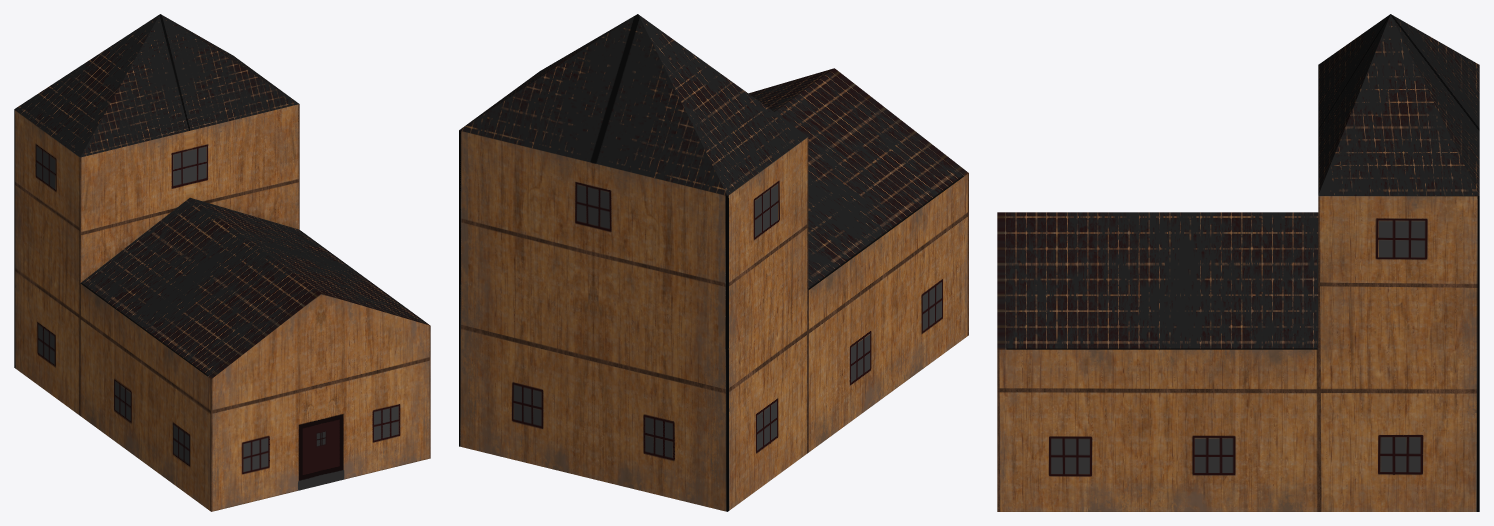
File: church_import.fbx
3 views of the same model, side by side, from view 1: azimuth 30°, elevation 25°; view 2: azimuth 150°, elevation 25°; view 3: azimuth 270°, elevation 25° (orthographic). The views are drawn at different scales.
Parts seen in each view (by area): view 1: Church; view 2: Church; view 3: Church.
Part boxes in pixels (x1,y1,x2,y2): Church: (14, 14, 430, 511); Church: (459, 14, 968, 511); Church: (997, 14, 1479, 511).
Bounding box in the file's own units: 34611 × 53289 × 53880.
